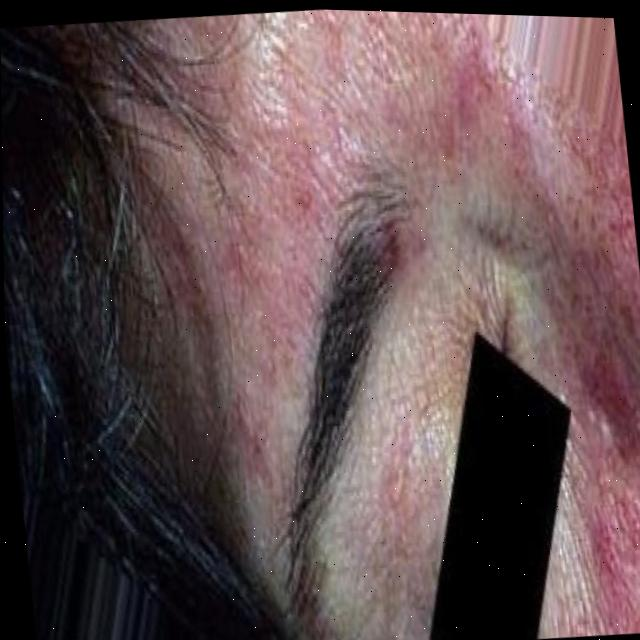Rosacea: (497, 99, 640, 355), (214, 151, 318, 318), (557, 460, 640, 614)
